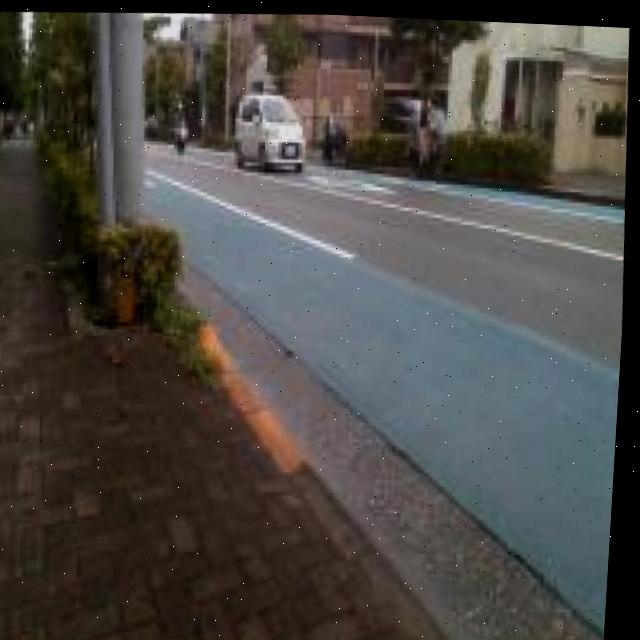Automobile: (236, 92, 304, 168), (175, 113, 189, 151)
Obstacle: (48, 143, 192, 332), (94, 11, 143, 221)
Road: (146, 141, 627, 640)
Sidewalk: (0, 149, 457, 640)
